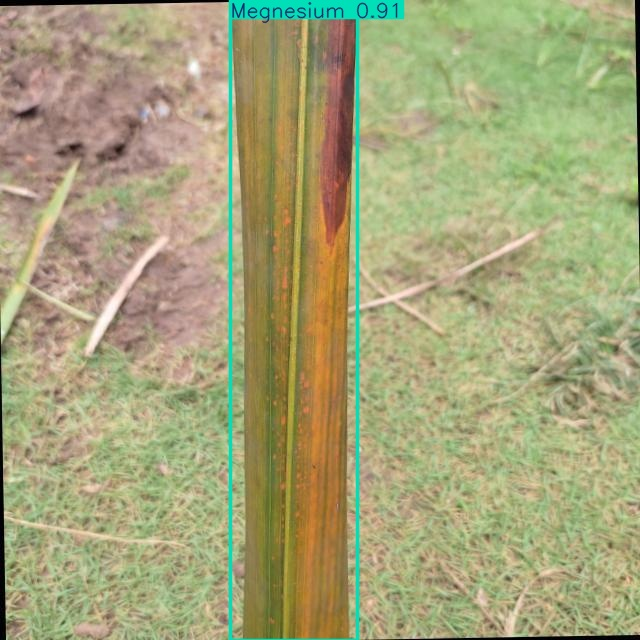Megnesium: (230, 0, 358, 640)
